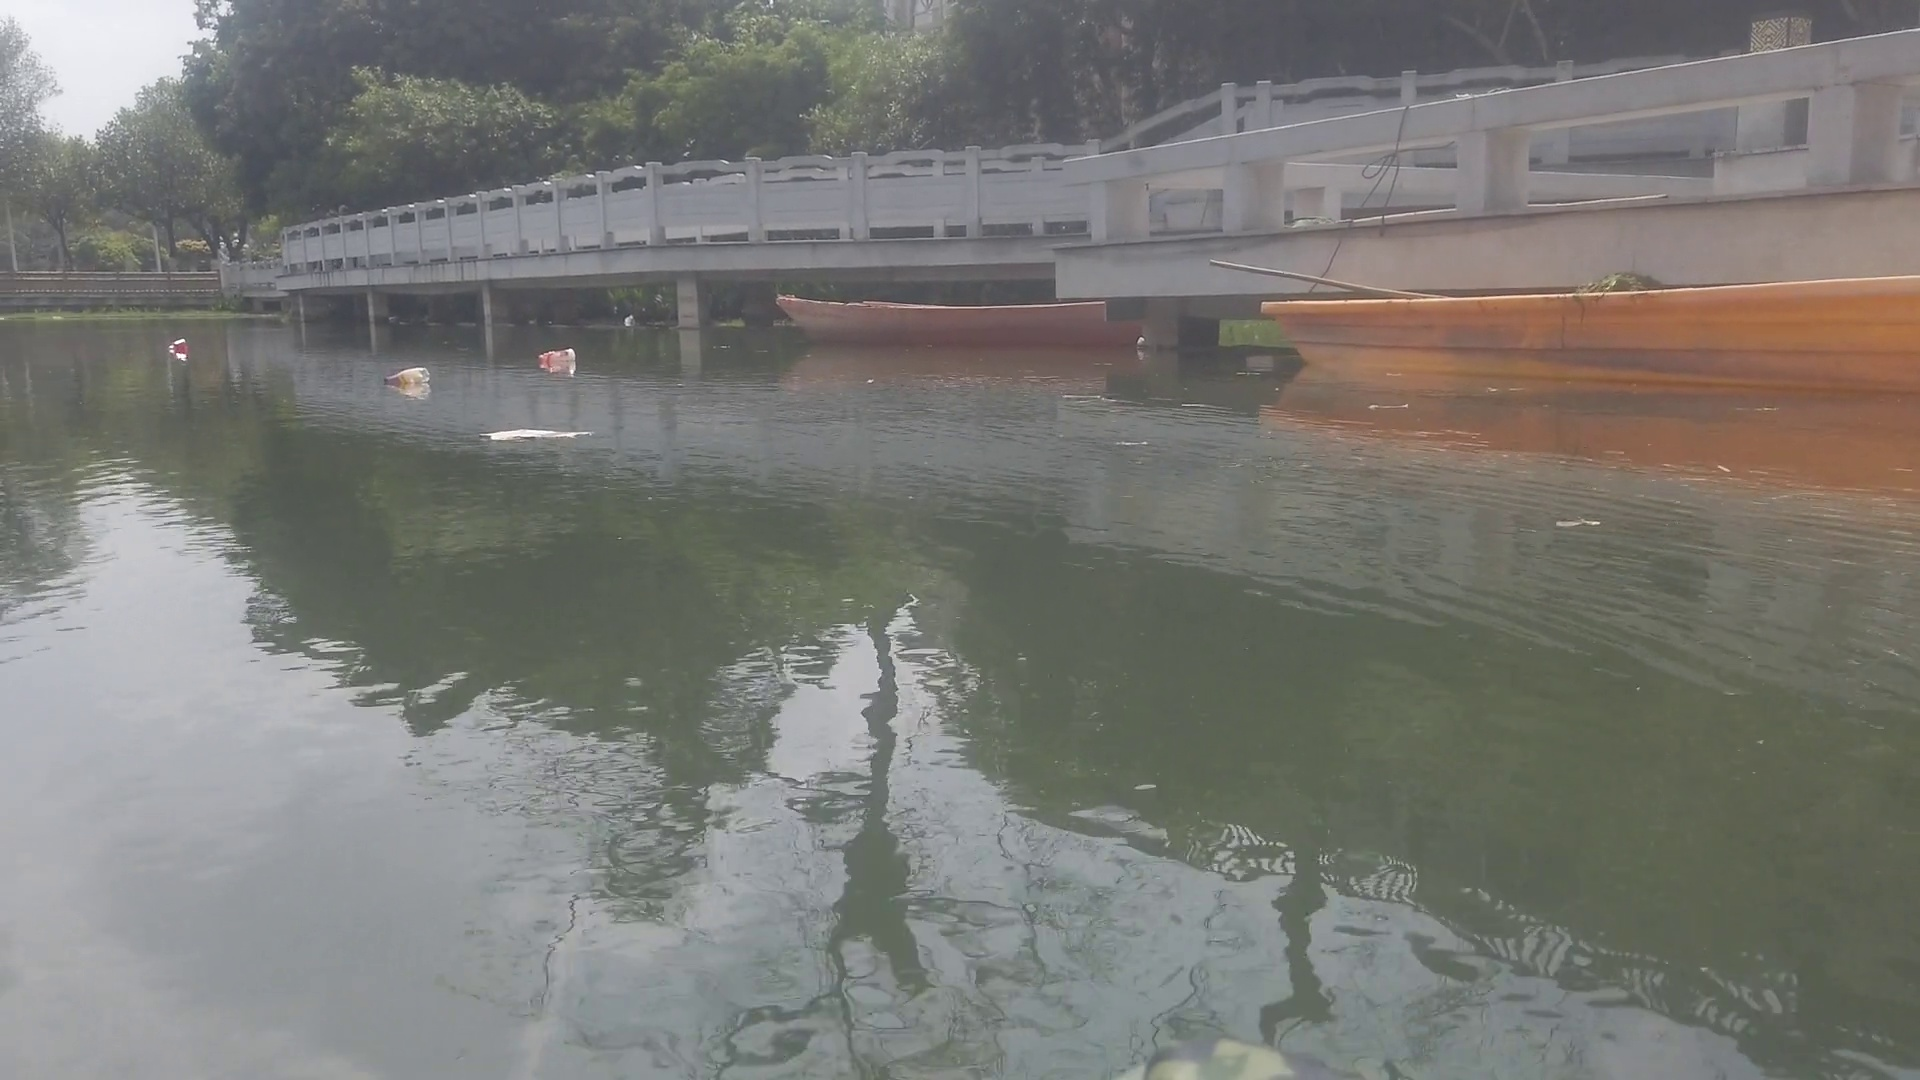bottle: (385, 365, 431, 390), (537, 344, 576, 371), (167, 338, 189, 353)
paper: (477, 425, 593, 443)
